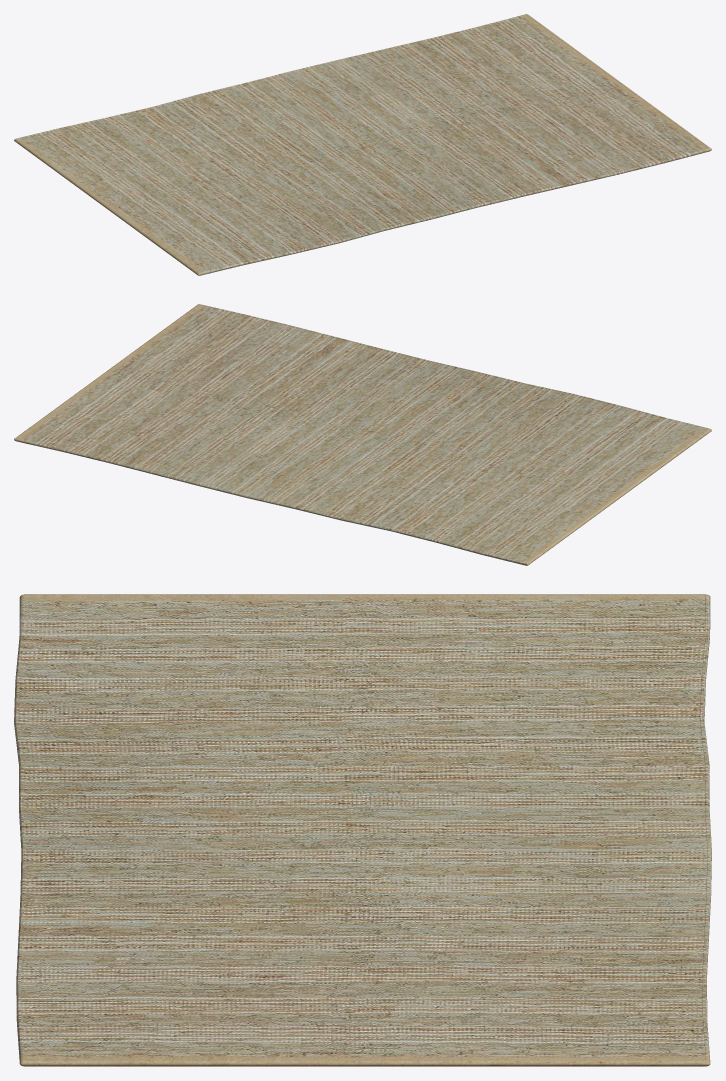
File: abo-B07B51T9SR.glb
3 renders of one model, top to bottom at view 1: azimuth 30°, elevation 25°; view 2: azimuth 150°, elevation 25°; view 3: azimuth 270°, elevation 25°, orthographic. The views are drawn at different scales.
Bounding box in the file's own units: 2.45 × 0.012 × 1.54.
Materials: 1 (1 with a texture image).
